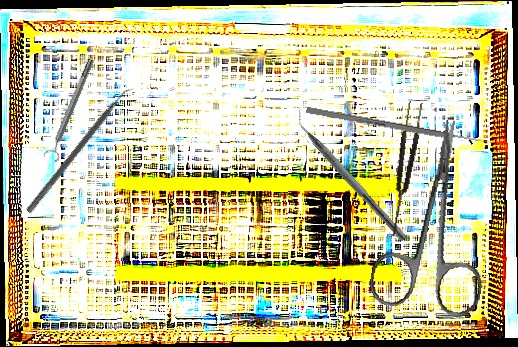Chopper: (285, 105, 416, 242)
Fixation Ring: (42, 56, 100, 163)
Iris Scissors: (366, 110, 510, 321)
Pusher: (305, 106, 492, 147)
Spatula Surgical: (25, 81, 137, 219)
Tissue Forceps: (384, 100, 425, 238)
